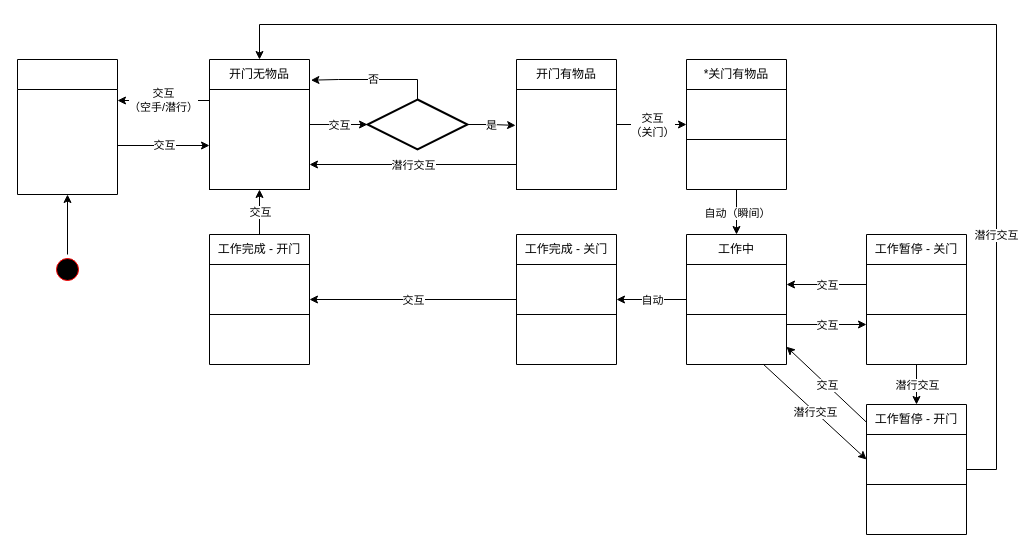
This 1035x552 diagram has some shape labels left out. The centre of each missing label's shape, as x and y in pixels:
"关门无物品" goes at [67,126].
"可放入" goes at [417,124].
